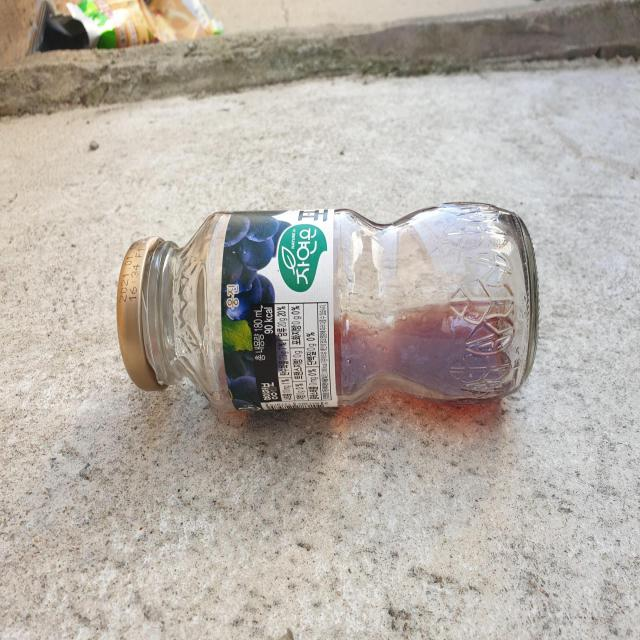glass: (116, 202, 540, 411)
